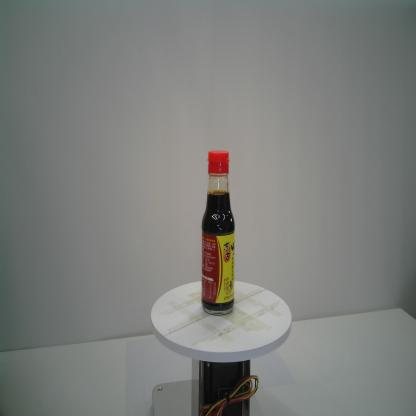Seasoner: (201, 150, 236, 316)
